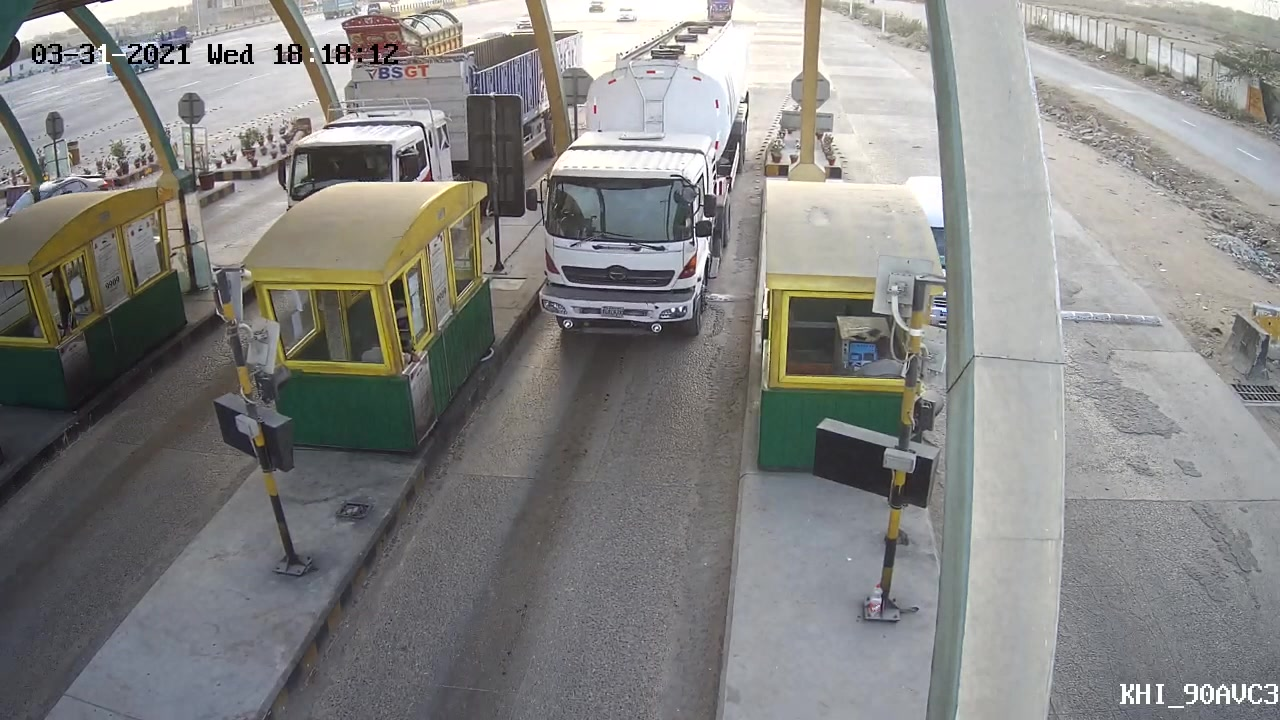F6: (519, 10, 764, 339)
